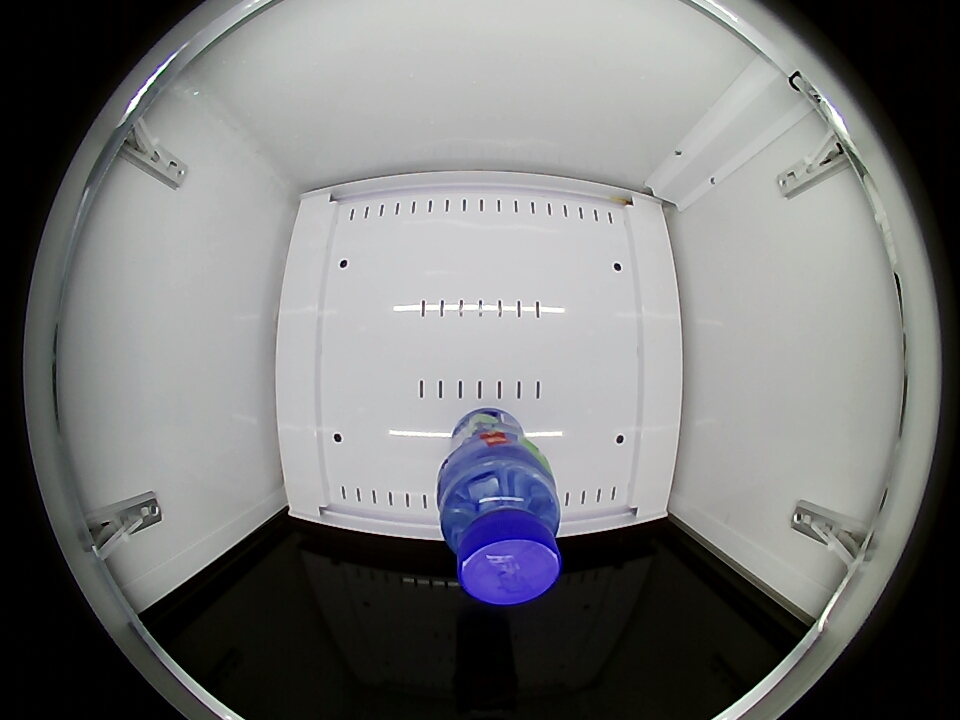maidong: (439, 464, 563, 606)
